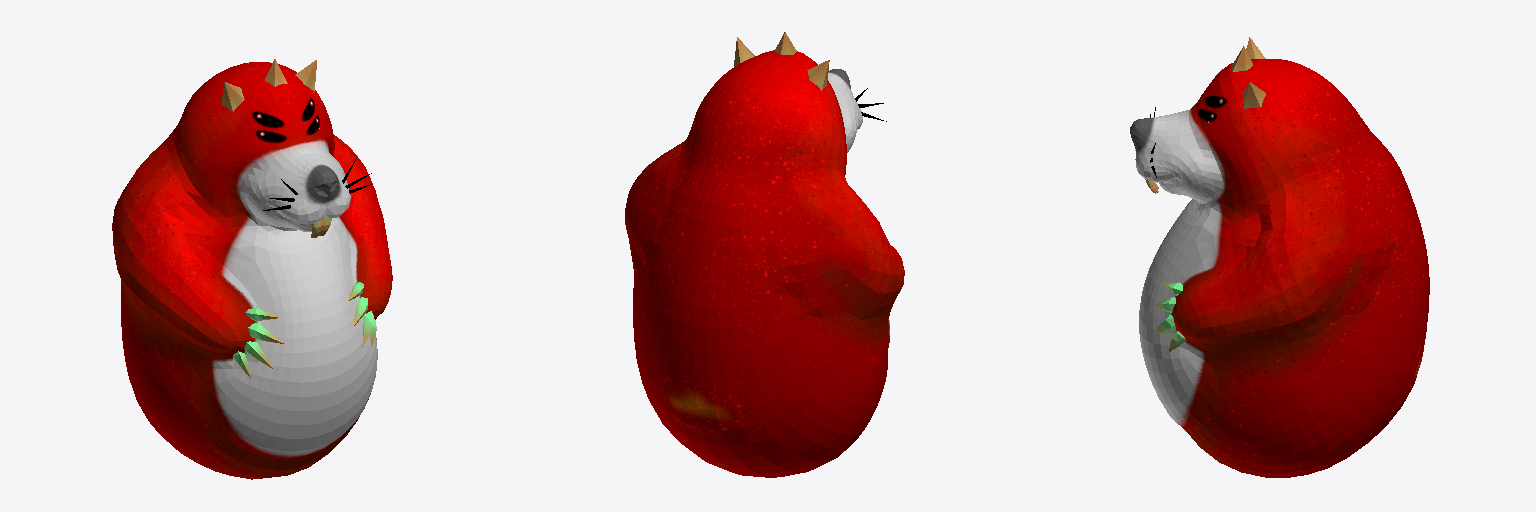
3 renders of one model, left to right at view 1: azimuth 30°, elevation 25°; view 2: azimuth 150°, elevation 25°; view 3: azimuth 270°, elevation 25°, orthographic.
Visible parts, largest first — view 1: Mole2; view 2: Mole2; view 3: Mole2.
Boxes of the visible parts, box(x1,y1,x2,y2) form: Mole2: box(112, 59, 392, 479); Mole2: box(625, 32, 904, 477); Mole2: box(1130, 37, 1429, 477).
Size of the model in its own units: 2.02 by 3.24 by 2.08.
1 materials, 1 textured.